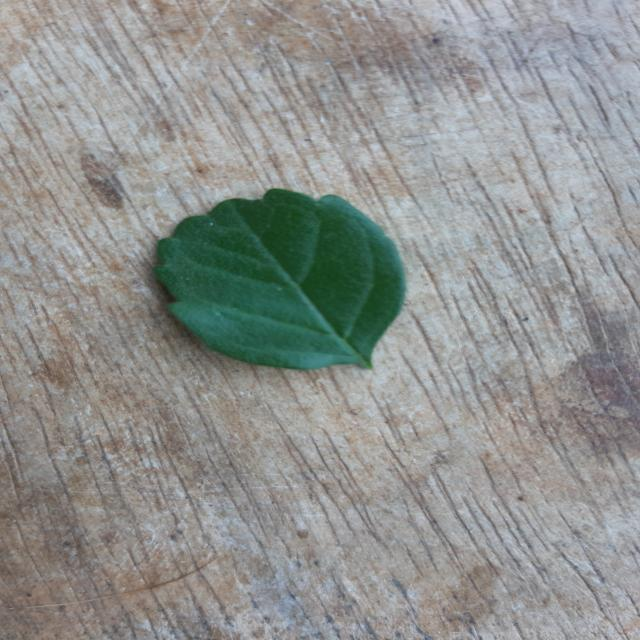tecoma: (153, 189, 404, 369)
